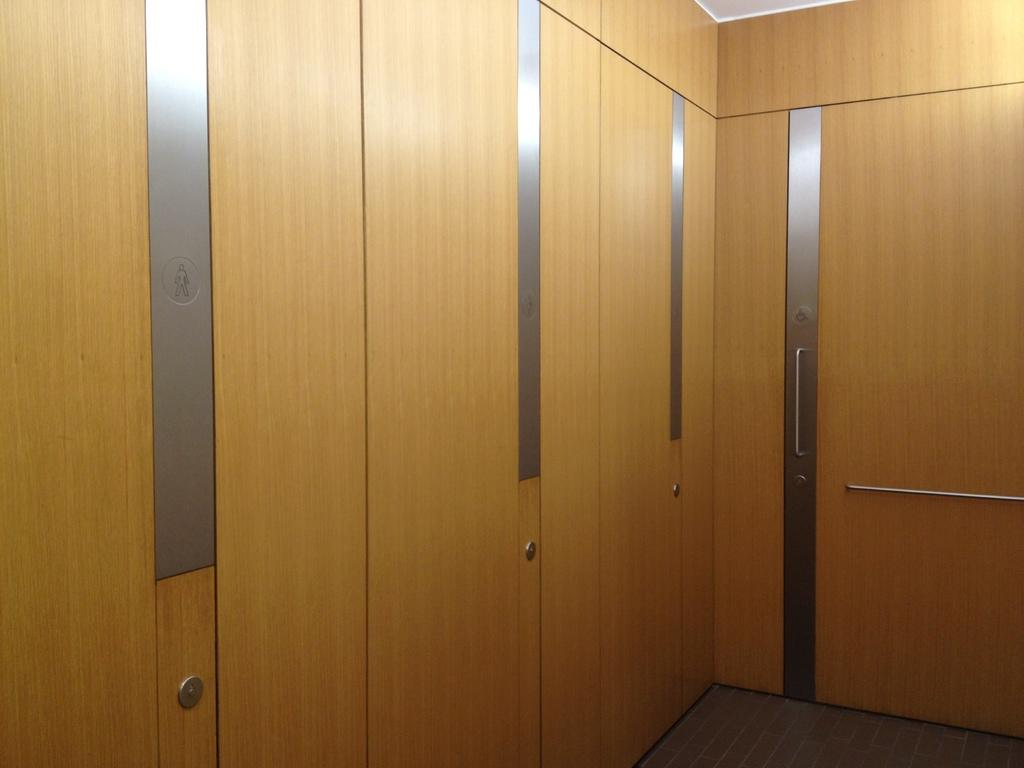handle: (834, 479, 1024, 514), (790, 340, 810, 458)
